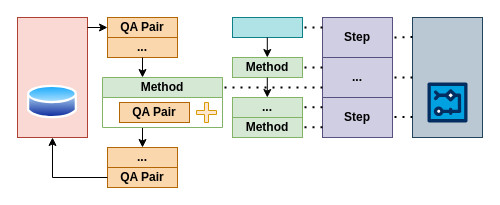
Some shapes in this 500 by 205 pixel diagram are drawn without their labels. Each missing label, with the box of its shape:
Init setup: (232, 16, 302, 38)
Pipeline: (412, 16, 482, 138)
QA Dataset: (16, 16, 88, 138)
